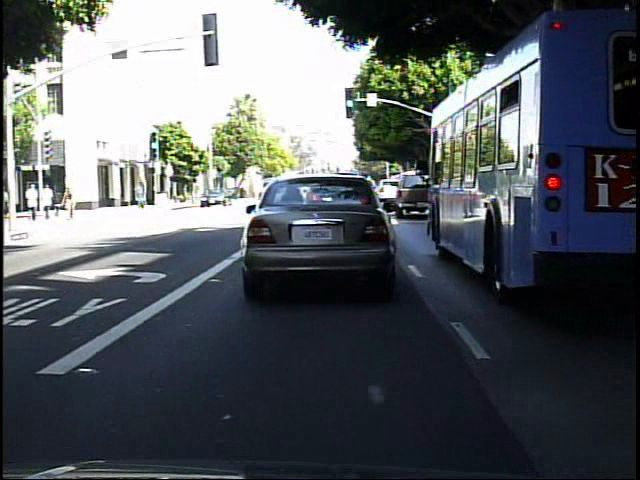person: (39, 182, 54, 223), (60, 182, 76, 220), (131, 178, 148, 213), (25, 181, 38, 222), (52, 186, 65, 221), (67, 183, 68, 222)
